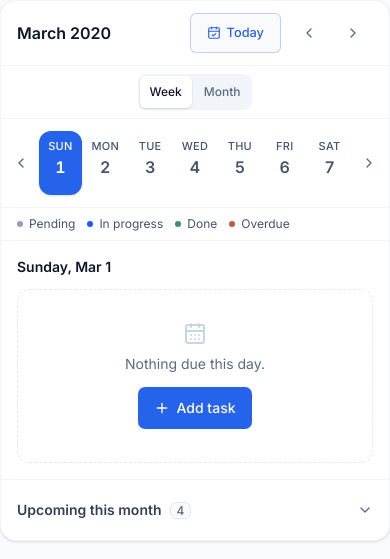
Test: CalendarView › state dots › puts the colored dots and a text summary on each week day, hidden from assistive tech
The width and height of the screenshot is (390, 559).
Click the button named "Next week" at [369, 163], box [353,131,385,195]
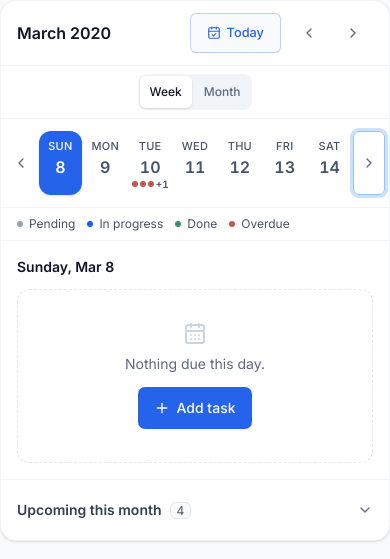
expect the button with aria-label "Tuesday, March 10, 3 overdue, 1 completed" shows "+1": met, box [129,131,172,195]
